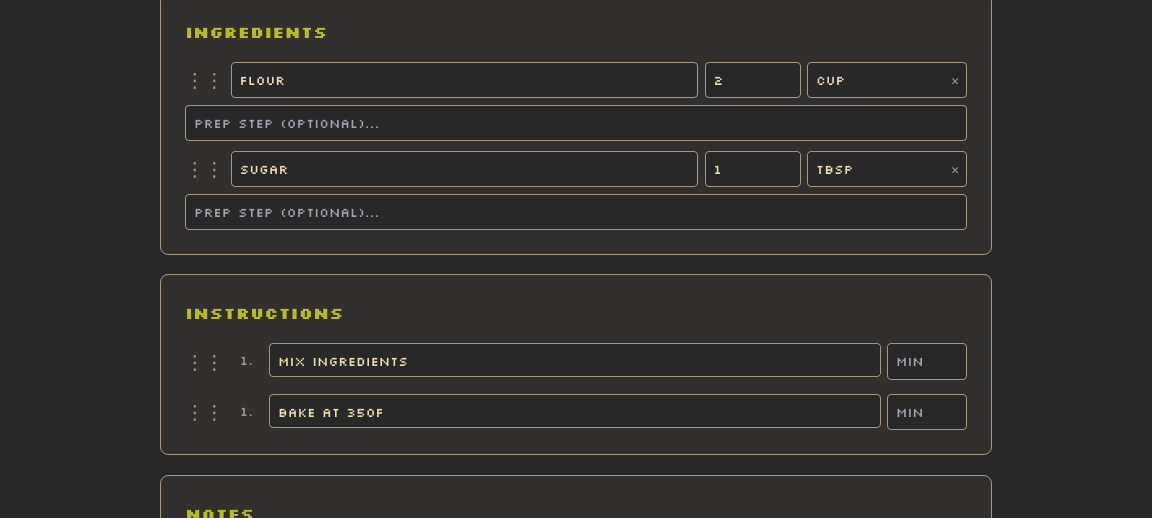
Test case: RecipeForm › Instruction CRUD › clones an instruction via the split button
(page scrolled)
Focus the first instruction to activate menu bar buttons
Click the 1st text box showing "Mix ingredients": (575,360) [269, 343, 880, 377]
(page scrolled)
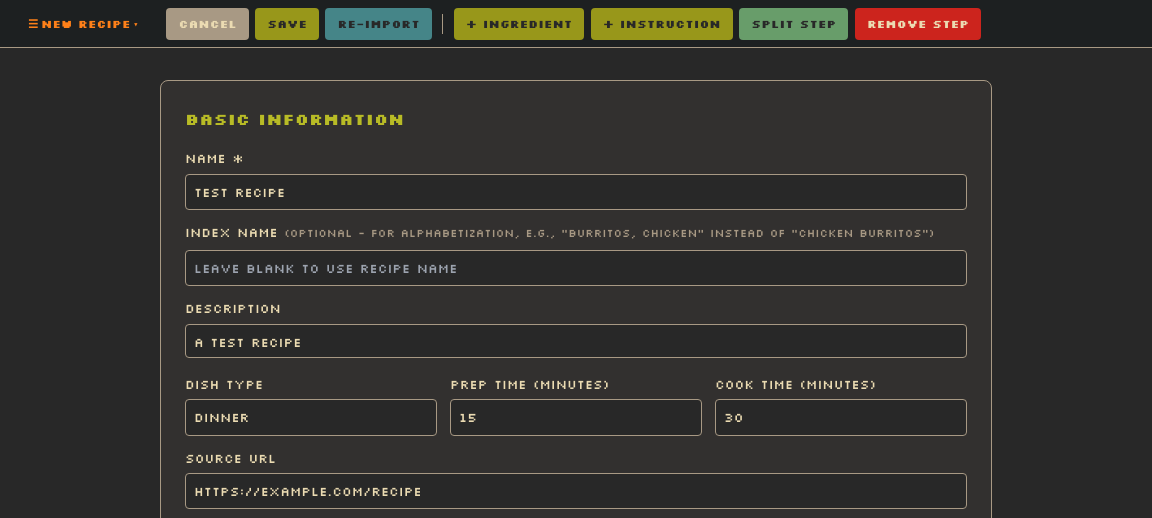
Click the button "Split Step": (794,24) [739, 8, 848, 40]
(page scrolled)
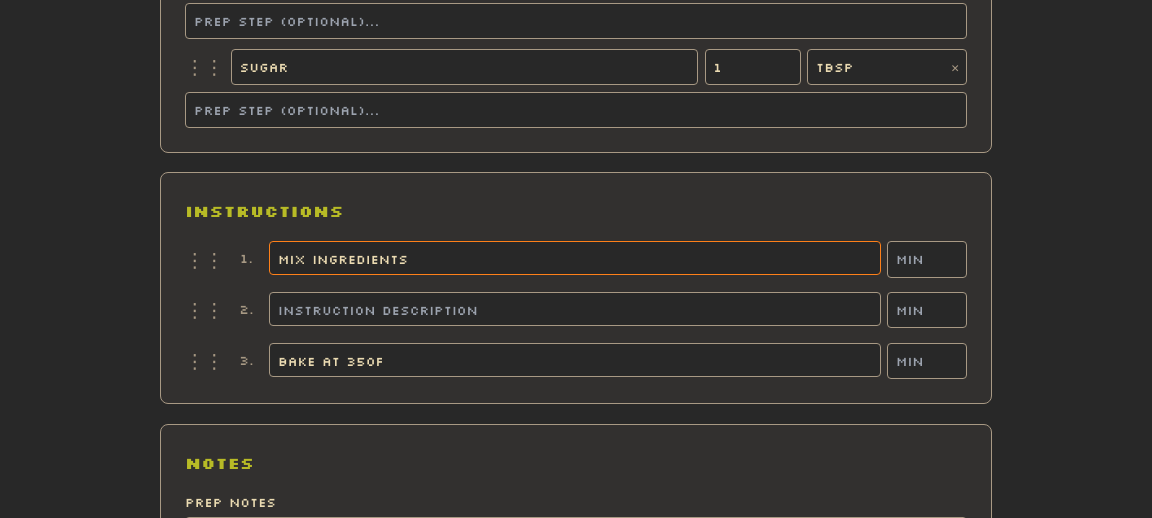
Expected: the text "3." is shown, [239, 352, 254, 368]
